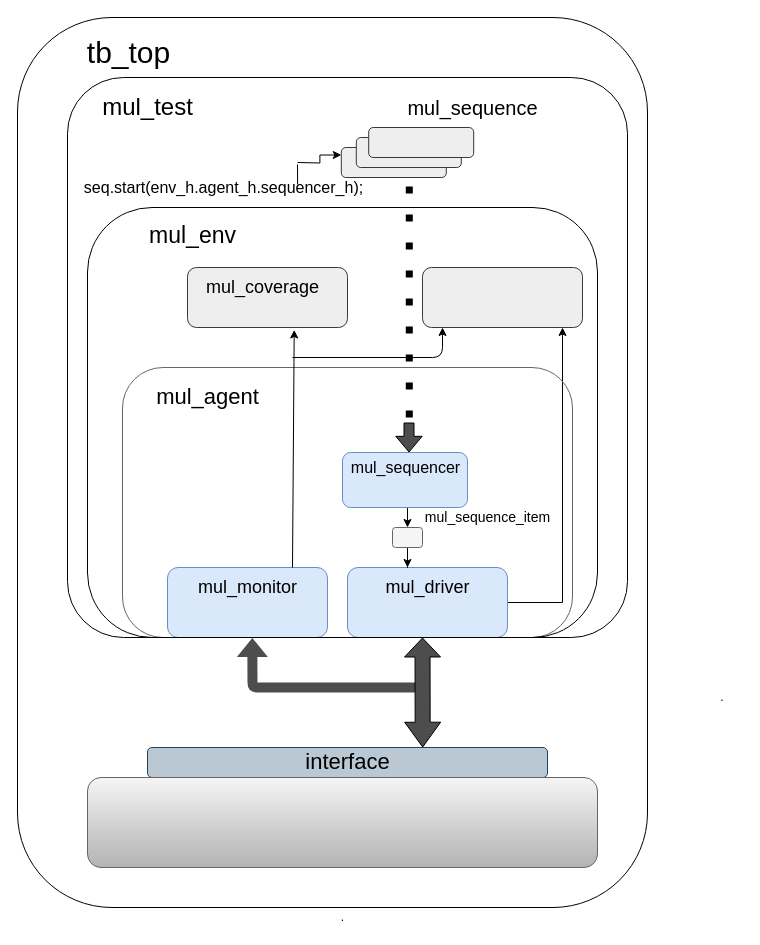
This 760x945 diagram has some shape labels left out. The box of each missing label's shape, as (x1, y1, x2, y2) in pixels:
mul_scoreboard: (422, 266, 582, 328)
ROM (DUT): (86, 776, 598, 868)
